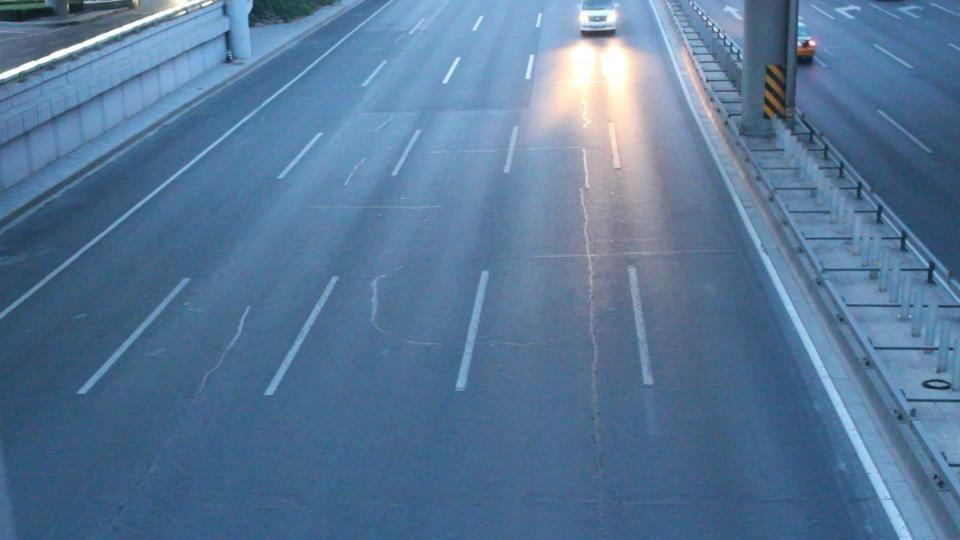car: (691, 2, 819, 67), (577, 0, 621, 37), (794, 20, 817, 63)
